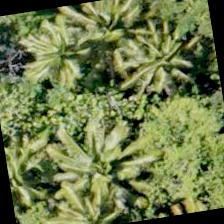Kelapa_Sawit: (9, 7, 112, 110), (107, 8, 210, 111), (48, 116, 151, 219), (61, 0, 161, 73), (2, 124, 64, 222), (41, 174, 138, 223)
